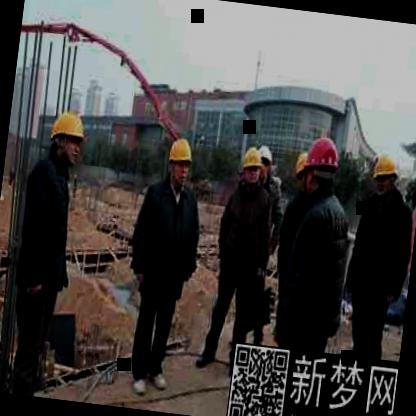helmet: (41, 104, 92, 168), (296, 134, 344, 200), (163, 132, 196, 188), (368, 149, 403, 200), (252, 140, 278, 190), (237, 141, 262, 188)
